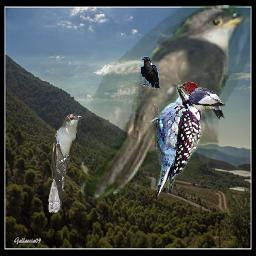Crow: (140, 56, 161, 89)
Cuckoo: (81, 5, 252, 205), (47, 113, 84, 213)
Woodpecker: (137, 81, 210, 207), (173, 82, 226, 120)
